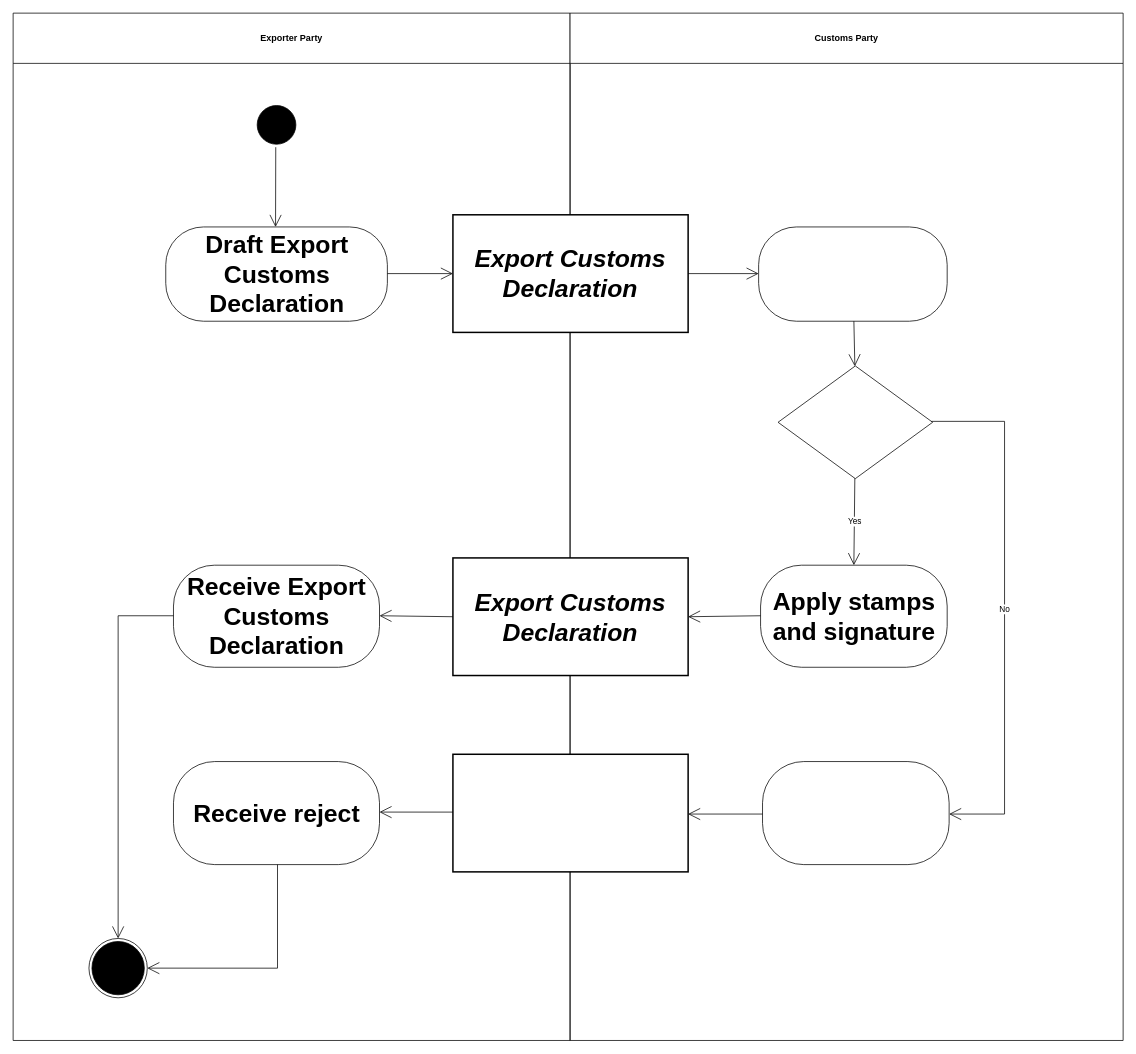
The diagram is 1136 pixels wide and 1054 high, and some of its shapes have lost their labels. Each missing label, with the centre of its shape:
"Application response" goes at (x=570, y=812).
"OK?" goes at (x=855, y=422).
"Send reject" goes at (x=855, y=813).
"Validate Export Customs Declaration" goes at (x=852, y=273).
